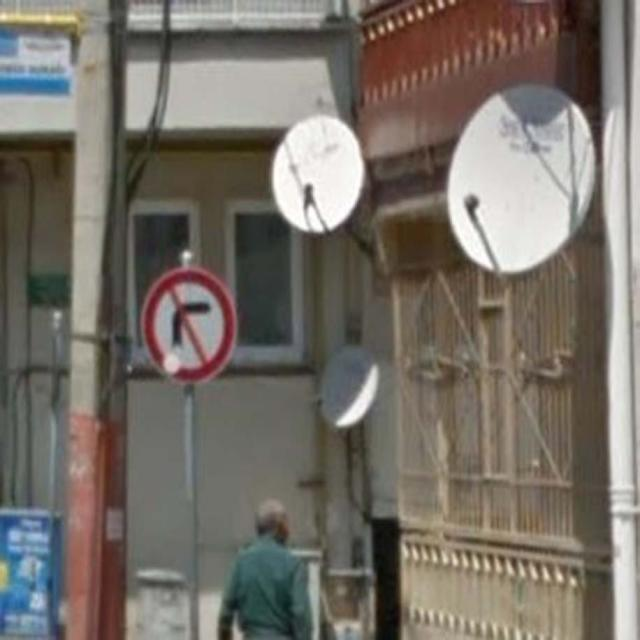sagadonulmez: (141, 268, 236, 383)
